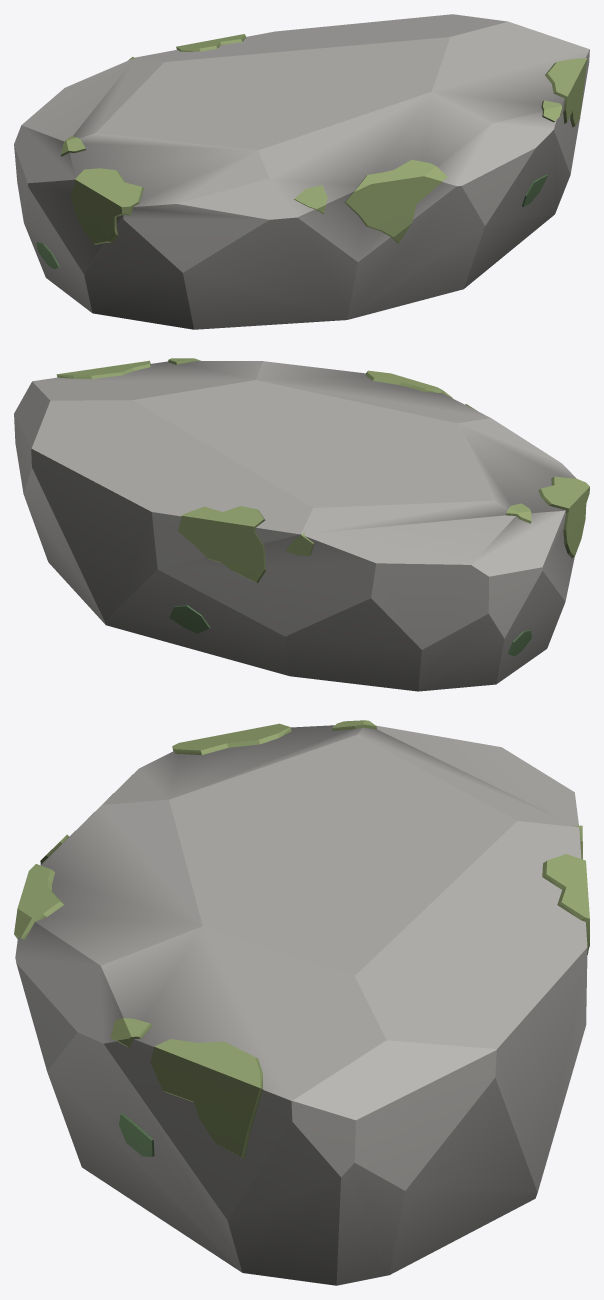
The model's file is boulder.glb.
The picture shows the model from 3 angles, top to bottom: view 1: azimuth 30°, elevation 25°; view 2: azimuth 150°, elevation 25°; view 3: azimuth 270°, elevation 25°; orthographic projection. The views are drawn at different scales.
Visible parts, largest first — view 1: boulder.001; view 2: boulder.001; view 3: boulder.001.
Boxes of the visible parts, box(x1,y1,x2,y2) form: boulder.001: box(14, 14, 589, 329); boulder.001: box(14, 358, 589, 691); boulder.001: box(14, 720, 589, 1285).
Bounding box in the file's own units: 5.28 × 1.58 × 3.33.
